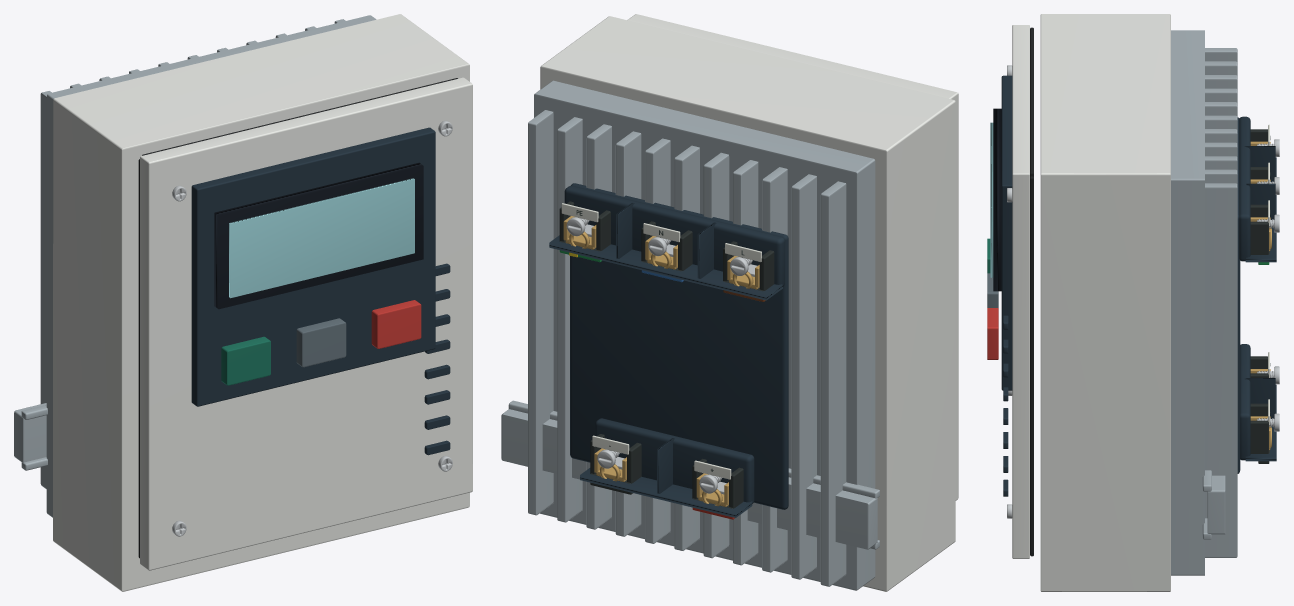
3 views of the same model, side by side, from view 1: azimuth 30°, elevation 25°; view 2: azimuth 150°, elevation 25°; view 3: azimuth 270°, elevation 25° (orthographic). The views are drawn at different scales.
Visible parts, largest first — view 1: part:cover, part:body, part:cover · Original a463fd81, part:display, part:body · Original 2a8198d3, part:body.002, part:body.003, part:body.001, part:mounting · Original 2a8198d3, detail:enclosure-gasket-and-fixings · Detail rubber gasket, detail:enclosure-gasket-and-fixings · Detail zinc plated fix; view 2: part:body · Original 2a8198d3, part:body, part:terminals · Original a463fd81, part:mounting · Original 2a8198d3, part:cover, detail:terminal-clamp:- · Detail moulded engineering polymer, detail:terminal-clamp:L · Detail moulded engineering polymer, detail:terminal-clamp:PE · Detail moulded engineering polyme, detail:terminal-clamp:N · Detail moulded engineering polymer, detail:terminal-clamp:+ · Detail moulded engineering polymer; view 3: part:body, part:body · Original 2a8198d3, part:cover, part:terminals · Original a463fd81, part:cover · Original a463fd81, part:display, detail:enclosure-gasket-and-fixings · Detail rubber gasket, part:mounting · Original 2a8198d3, detail:terminal-clamp:- · Detail moulded engineering polymer, detail:terminal-clamp:PE · Detail moulded engineering polyme, part:body.003.
Part boxes in pixels (<box>): part:cover: <box>140,77,472,570</box>; part:body: <box>53,14,469,591</box>; part:cover · Original a463fd81: <box>191,127,450,455</box>; part:display: <box>214,162,423,309</box>; part:body · Original 2a8198d3: <box>40,15,376,517</box>; part:body.002: <box>296,318,346,367</box>; part:body.003: <box>371,300,421,348</box>; part:body.001: <box>221,336,270,385</box>; part:mounting · Original 2a8198d3: <box>14,403,47,470</box>; detail:enclosure-gasket-and-fixings · Detail rubber gasket: <box>138,78,457,558</box>; detail:enclosure-gasket-and-fixings · Detail zinc plated fix: <box>172,120,452,536</box>; part:body · Original 2a8198d3: <box>528,80,875,590</box>; part:body: <box>540,16,955,591</box>; part:terminals · Original a463fd81: <box>549,183,788,517</box>; part:mounting · Original 2a8198d3: <box>501,400,879,549</box>; part:cover: <box>627,14,958,500</box>; detail:terminal-clamp:- · Detail moulded engineering polymer: <box>590,434,641,494</box>; detail:terminal-clamp:L · Detail moulded engineering polymer: <box>723,241,774,291</box>; detail:terminal-clamp:PE · Detail moulded engineering polyme: <box>559,201,610,251</box>; detail:terminal-clamp:N · Detail moulded engineering polymer: <box>641,221,692,271</box>; detail:terminal-clamp:+ · Detail moulded engineering polymer: <box>692,458,743,508</box>; part:body: <box>1040,14,1170,591</box>; part:body · Original 2a8198d3: <box>1171,30,1237,575</box>; part:cover: <box>1012,25,1029,558</box>; part:terminals · Original a463fd81: <box>1237,116,1276,473</box>; part:cover · Original a463fd81: <box>1001,75,1012,496</box>; part:display: <box>990,108,1001,291</box>; detail:enclosure-gasket-and-fixings · Detail rubber gasket: <box>1030,27,1033,556</box>; part:mounting · Original 2a8198d3: <box>1202,470,1225,539</box>; detail:terminal-clamp:- · Detail moulded engineering polymer: <box>1250,403,1269,463</box>; detail:terminal-clamp:PE · Detail moulded engineering polyme: <box>1250,204,1269,254</box>; part:body.003: <box>987,308,998,359</box>.
Size of the model in its own units: 1.16 by 1.34 by 0.8462.
